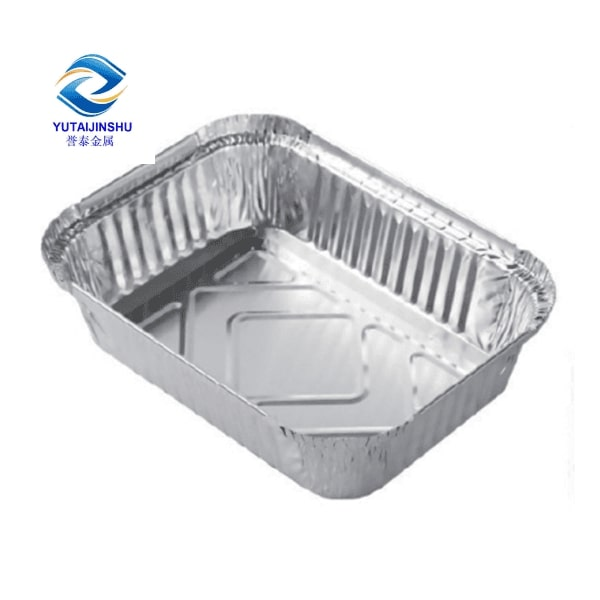metal: (42, 111, 559, 502)
